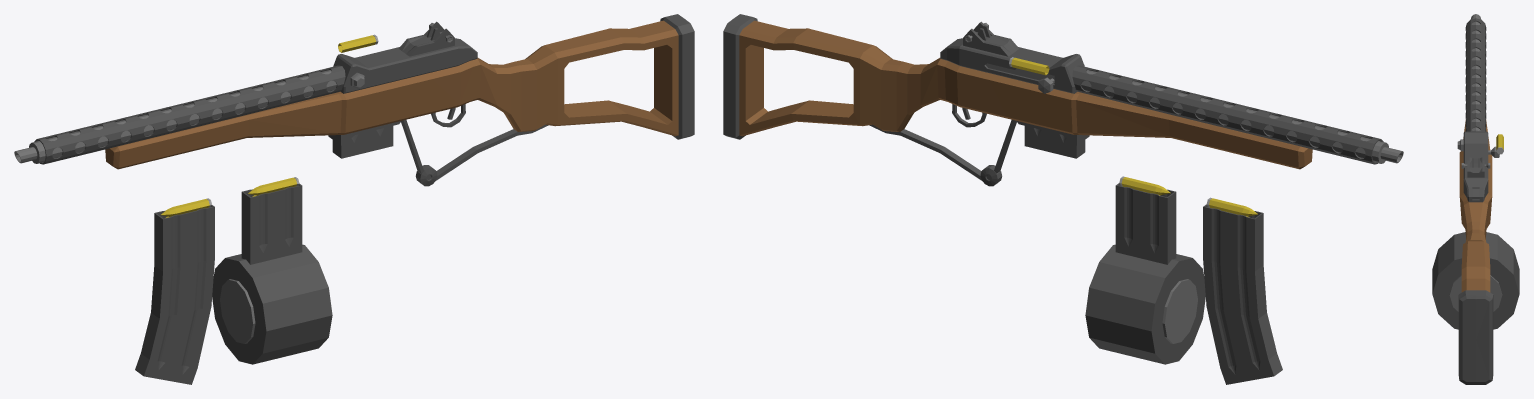
The model's file is LPGun001.fbx.
3 renders of one model, left to right at view 1: azimuth 30°, elevation 25°; view 2: azimuth 150°, elevation 25°; view 3: azimuth 270°, elevation 25°, orthographic. The views are drawn at different scales.
Visible parts, largest first — view 1: Body, Mag002, Mag003, Mag001; view 2: Body, Mag002, Mag003, Mag001, Slider; view 3: Body, Mag002, Shell.
Boxes of the visible parts, <box> form: Body: <box>14,14,694,186</box>; Mag002: <box>212,177,332,364</box>; Mag003: <box>135,198,214,384</box>; Mag001: <box>332,126,393,158</box>; Body: <box>723,14,1403,186</box>; Mag002: <box>1085,176,1205,364</box>; Mag003: <box>1203,197,1282,384</box>; Mag001: <box>1024,126,1085,158</box>; Slider: <box>985,63,1054,93</box>; Body: <box>1457,14,1493,384</box>; Mag002: <box>1432,232,1519,329</box>; Shell: <box>1496,134,1503,154</box>.
Size of the model in its own units: 1501 by 629 by 214.
